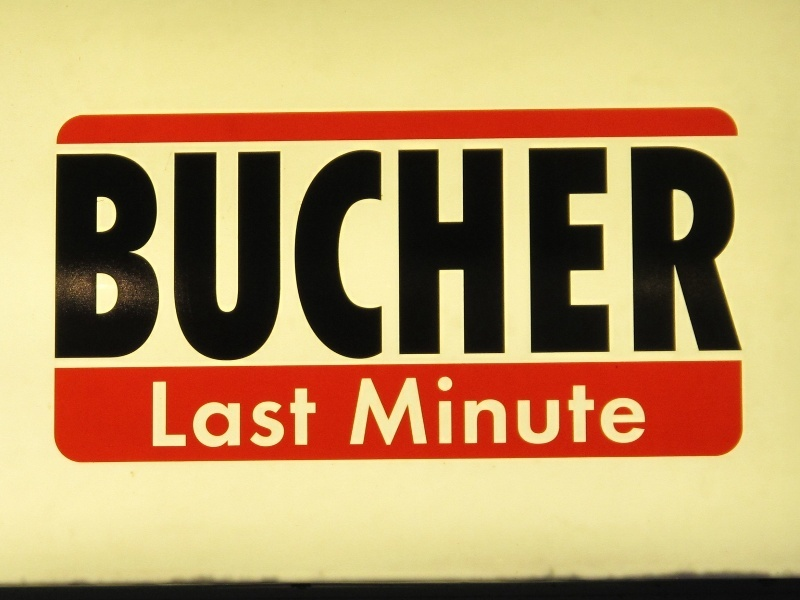text: (65, 146, 80, 368), (81, 146, 96, 368), (97, 146, 112, 368), (113, 146, 128, 368), (129, 146, 144, 368), (145, 146, 160, 368), (161, 146, 176, 368), (177, 146, 192, 368), (193, 146, 208, 368), (209, 146, 224, 368), (225, 146, 240, 368), (241, 146, 256, 368), (257, 146, 272, 368), (273, 146, 288, 368), (289, 146, 304, 368), (305, 146, 320, 368), (321, 146, 336, 368), (337, 146, 352, 368), (353, 146, 368, 368), (369, 146, 384, 368), (385, 146, 400, 368), (401, 146, 416, 368), (417, 146, 432, 368), (433, 146, 448, 368), (449, 146, 464, 368), (465, 146, 480, 368), (481, 146, 496, 368), (497, 146, 512, 368), (513, 146, 528, 368), (529, 146, 544, 368), (545, 146, 560, 368), (561, 146, 576, 368), (577, 146, 592, 368), (593, 146, 608, 368), (609, 146, 624, 368), (625, 146, 640, 368), (641, 146, 656, 368), (657, 146, 672, 368), (673, 146, 688, 368), (689, 146, 704, 368), (705, 146, 720, 368), (721, 146, 736, 368), (737, 146, 746, 368), (56, 146, 64, 368), (369, 375, 384, 447), (385, 375, 400, 447), (401, 375, 416, 447), (417, 375, 432, 447), (433, 375, 448, 447), (449, 375, 464, 447), (465, 375, 480, 447), (481, 375, 496, 447), (497, 375, 512, 447), (513, 375, 528, 447), (529, 375, 544, 447), (545, 375, 560, 447), (561, 375, 576, 447), (577, 375, 592, 447), (593, 375, 608, 447), (609, 375, 624, 447), (625, 375, 640, 447), (161, 382, 176, 449), (177, 382, 192, 449), (193, 382, 208, 449), (209, 382, 224, 449), (225, 382, 240, 449), (241, 382, 256, 449), (257, 382, 272, 449), (273, 382, 288, 449), (289, 382, 304, 449), (305, 382, 320, 449), (641, 375, 649, 447), (153, 382, 160, 449), (364, 375, 368, 447), (321, 382, 322, 449)
